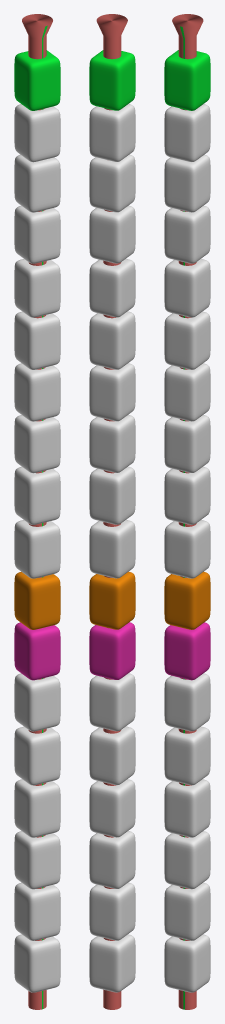
The model's file is axon.fbx.
3 views of the same model, side by side, from view 1: azimuth 30°, elevation 25°; view 2: azimuth 150°, elevation 25°; view 3: azimuth 330°, elevation 25° (orthographic).
Parts seen in each view (by area): view 1: Cylinder; view 2: Cylinder; view 3: Cylinder.
Boxes of the visible parts, x1,y1,x2,y2 form: Cylinder: (14, 14, 60, 1009); Cylinder: (89, 14, 135, 1009); Cylinder: (164, 14, 210, 1009).
Size of the model in its own units: 134 by 3971 by 134.
